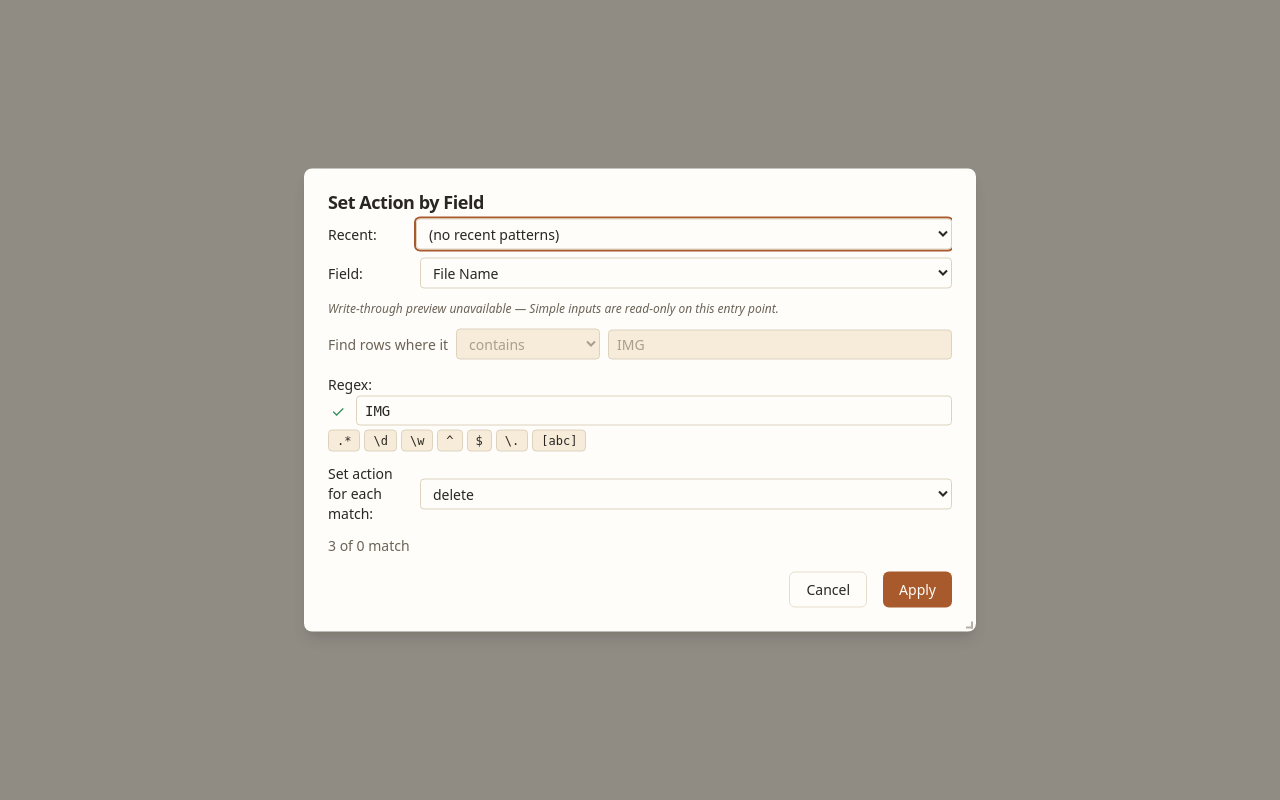
Scenario: ActionDialog › delete-confirm shows the pattern summary and 'Mark N files for deletion' button
Click the button with test id "action-btn-apply" at (918, 590), box [883,572,952,608]
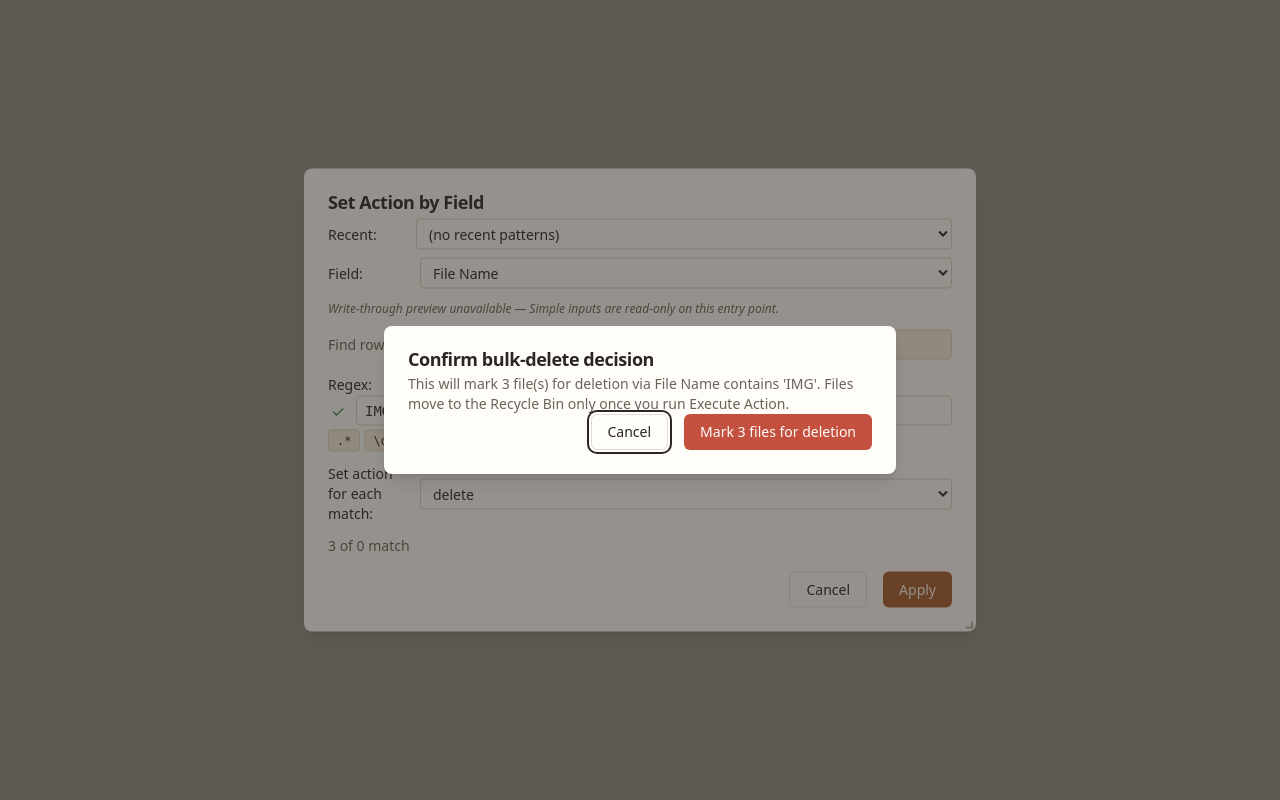
Expected: the text with test id "action-delete-confirm-summary" shows "File Name contains 'IMG'", [408,374,853,413]
Expected: the button with test id "execute-all-delete-confirm-yes" reads "Mark 3 files for deletion", [684,414,872,450]
